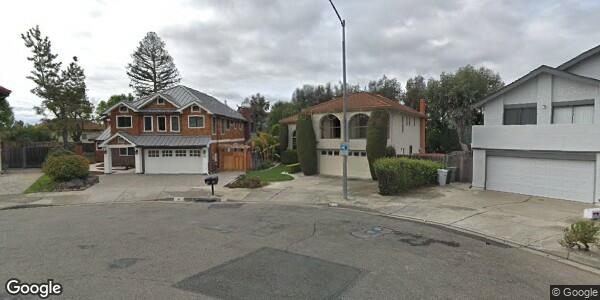Steel_Pole: (322, 1, 351, 204)
